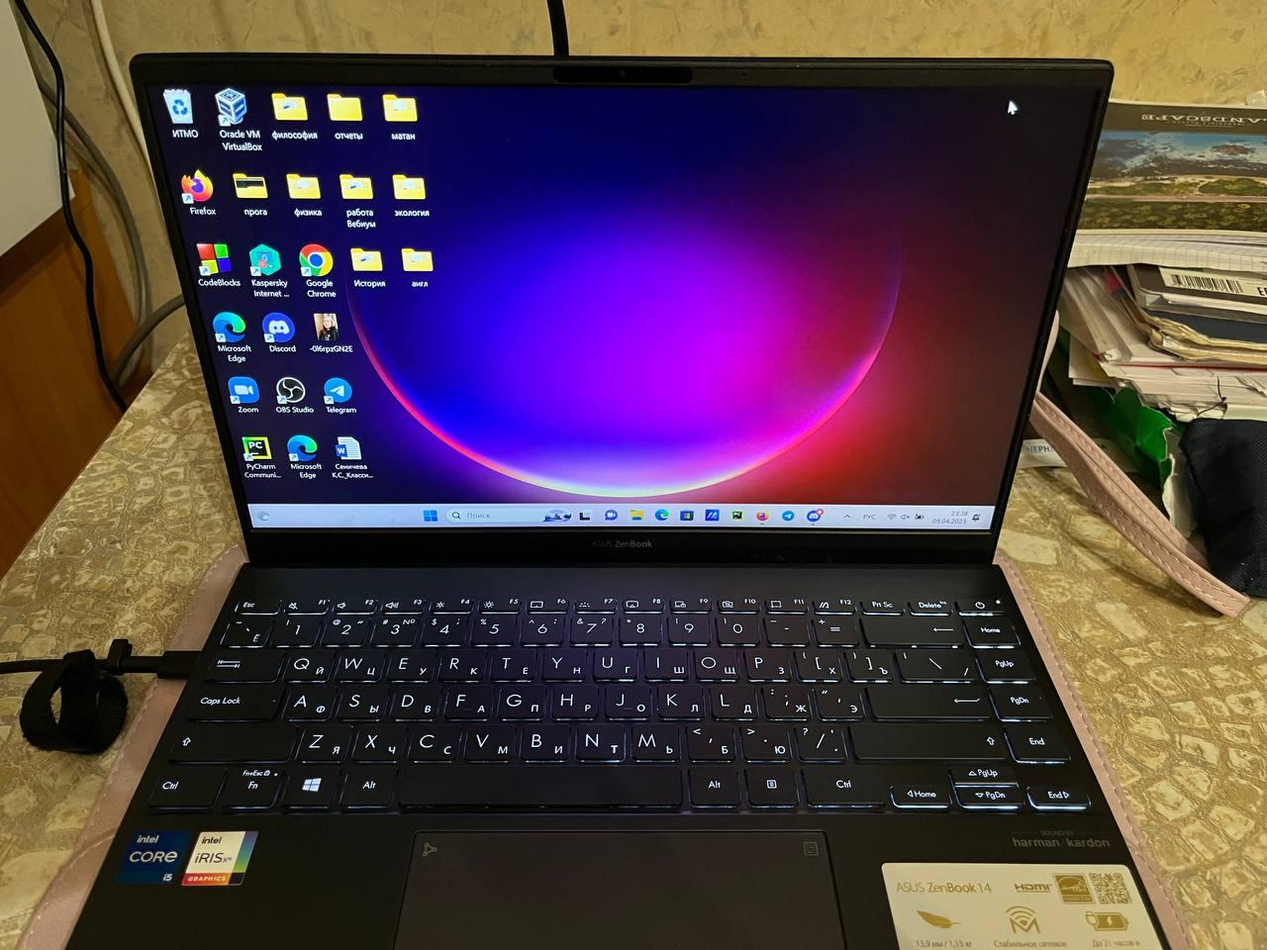monitor: (126, 50, 1119, 568)
